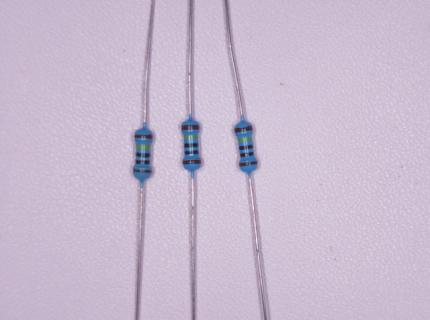Black band: (239, 144, 253, 150), (184, 150, 199, 155), (136, 152, 151, 157), (240, 152, 254, 157), (184, 143, 198, 148), (136, 160, 150, 165)
Brown band: (234, 125, 253, 133), (239, 160, 258, 167), (181, 124, 199, 130), (133, 168, 152, 173), (134, 134, 152, 139), (183, 159, 201, 164)
Yellow band: (136, 144, 150, 149), (238, 137, 252, 142), (184, 135, 198, 139)
